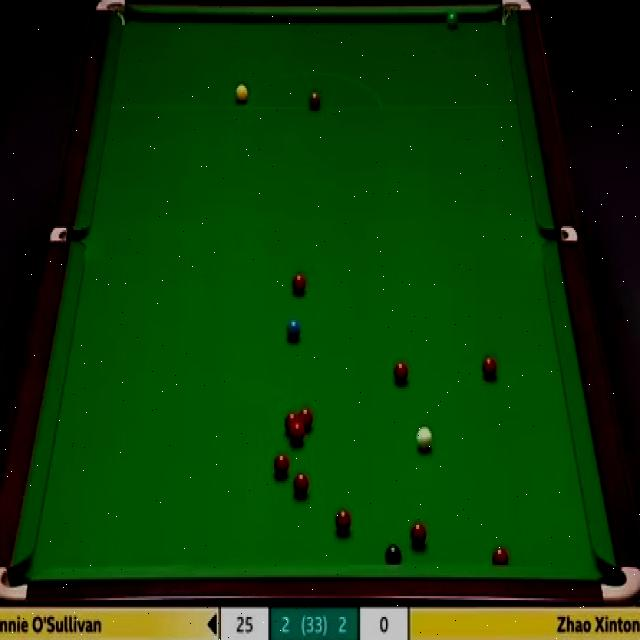black-ball: (384, 544, 402, 566)
blue-ball: (285, 317, 302, 346)
brown-ball: (308, 87, 322, 113)
green-ball: (446, 10, 459, 30)
red-ball: (292, 471, 310, 499), (334, 509, 353, 534), (409, 522, 427, 548), (291, 270, 307, 297), (273, 454, 289, 481), (482, 355, 498, 381), (394, 360, 410, 385), (490, 546, 510, 565), (289, 421, 304, 443), (298, 408, 312, 427), (285, 412, 298, 429)
white-ball: (416, 425, 433, 452)
yellow-ball: (234, 81, 249, 105)
